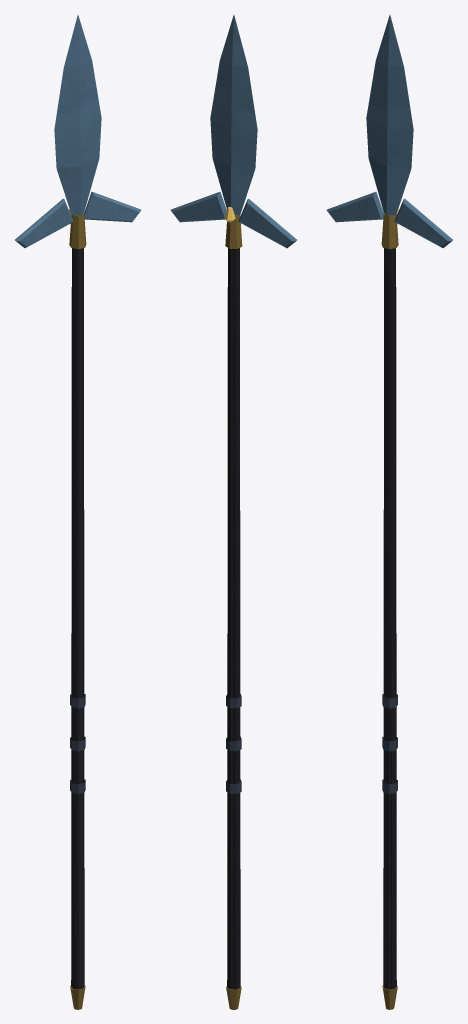
Rendered from wpn_spear_rare.glb.
3 views of the same model, side by side, from view 1: azimuth 30°, elevation 25°; view 2: azimuth 150°, elevation 25°; view 3: azimuth 330°, elevation 25° (orthographic).
Visible parts, largest first — view 1: wpn_spear_rare; view 2: wpn_spear_rare; view 3: wpn_spear_rare.
Part boxes in pixels (<box>): wpn_spear_rare: <box>15,15,141,1009</box>; wpn_spear_rare: <box>170,15,297,1009</box>; wpn_spear_rare: <box>326,15,452,1009</box>.
Bounding box in the file's own units: 0.4 × 3.01 × 0.0596.
Materials: 5 (5 with a texture image).
